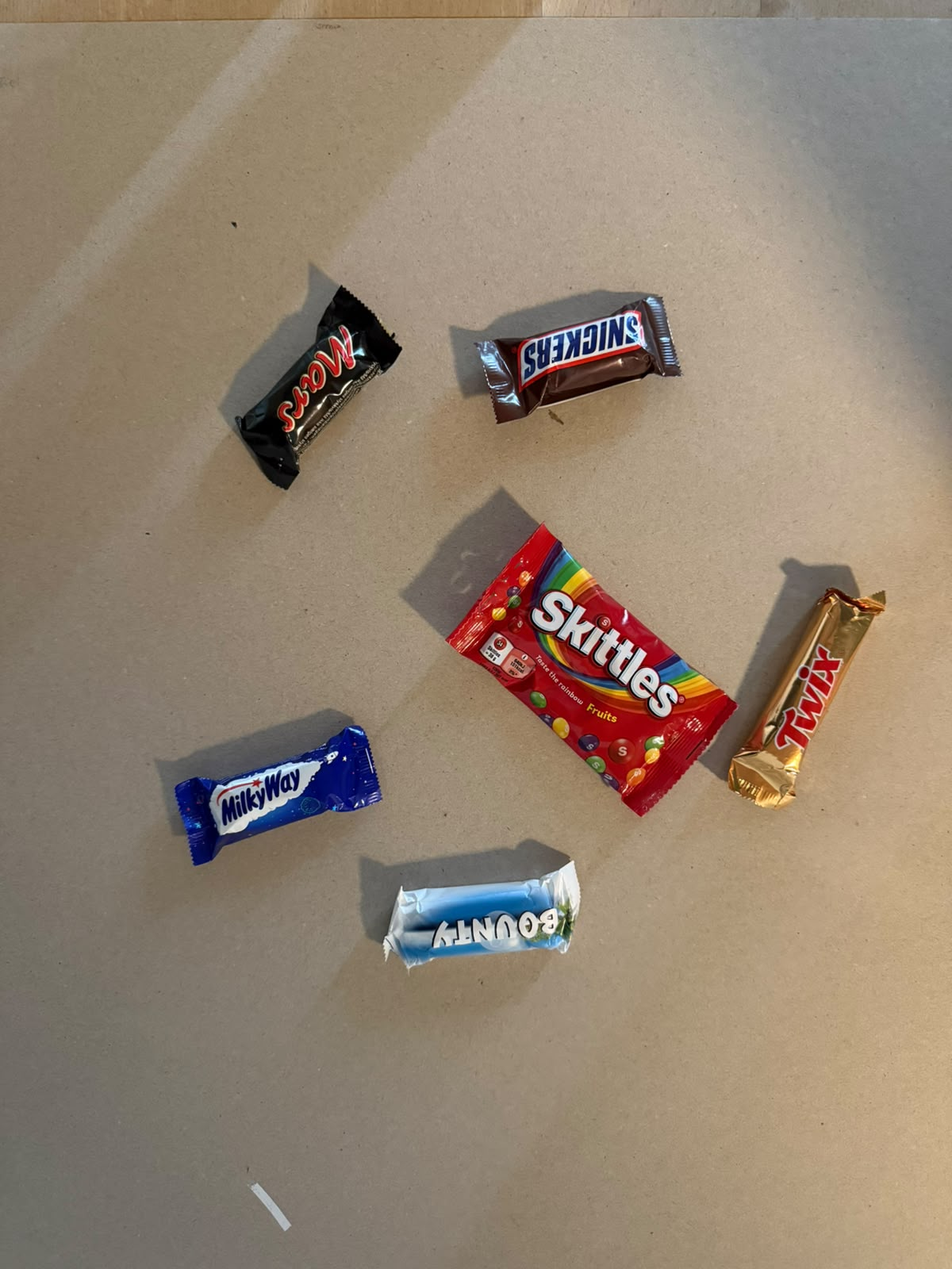Bounty: (387, 878, 619, 974)
Mars: (363, 239, 483, 515)
MilkyWay: (147, 783, 377, 885)
Skittles: (380, 620, 569, 958)
Snickers: (450, 346, 688, 469)
Twix: (839, 551, 924, 843)
